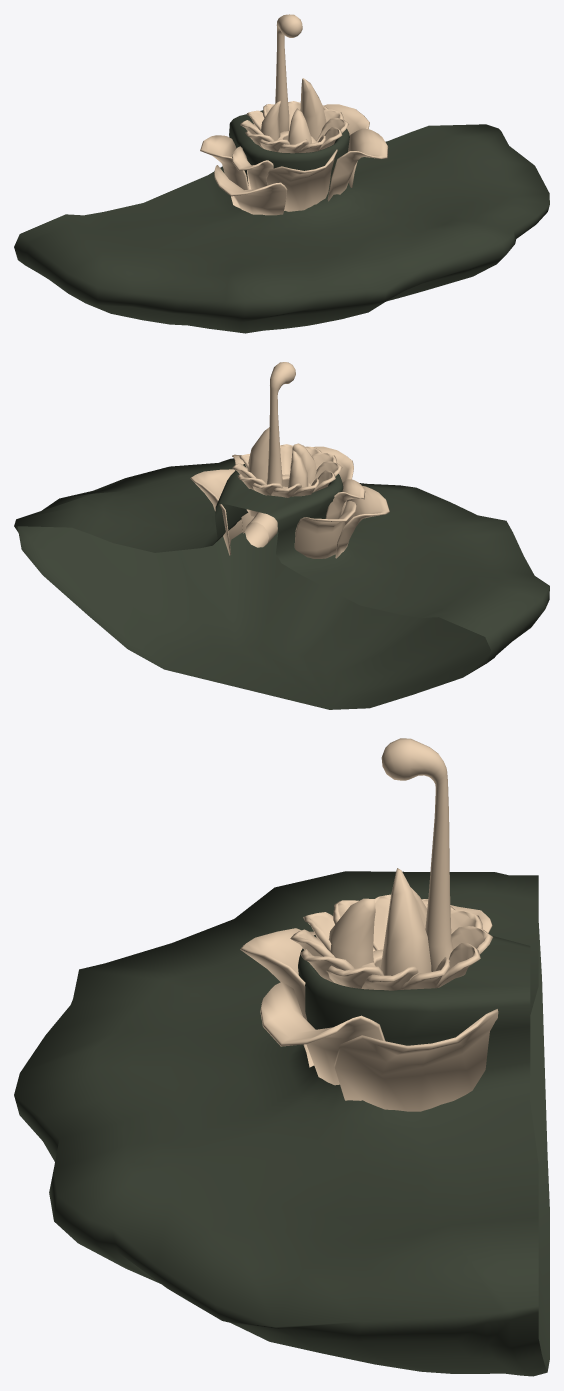
Rendered from PlatformToFeed.fbx.
The picture shows the model from 3 angles, top to bottom: view 1: azimuth 30°, elevation 25°; view 2: azimuth 150°, elevation 25°; view 3: azimuth 270°, elevation 25°; orthographic projection. The views are drawn at different scales.
Parts seen in each view (by area): view 1: Plane.011, petal3; view 2: Plane.011, petal3; view 3: Plane.011, petal3.
Part boxes in pixels (x1,y1,x2,y2): Plane.011: [14, 110, 549, 333]; petal3: [200, 14, 388, 215]; Plane.011: [14, 458, 549, 709]; petal3: [190, 362, 389, 558]; Plane.011: [14, 871, 549, 1376]; petal3: [240, 738, 498, 1111].
Bounding box in the file's own units: 8.02 × 4.72 × 4.19.
